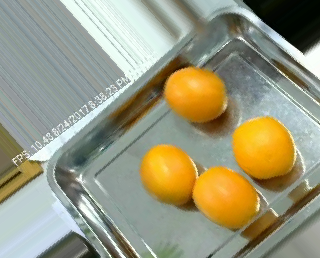Orange: (191, 167, 260, 231), (232, 115, 298, 179), (163, 66, 229, 122), (140, 144, 198, 205)
